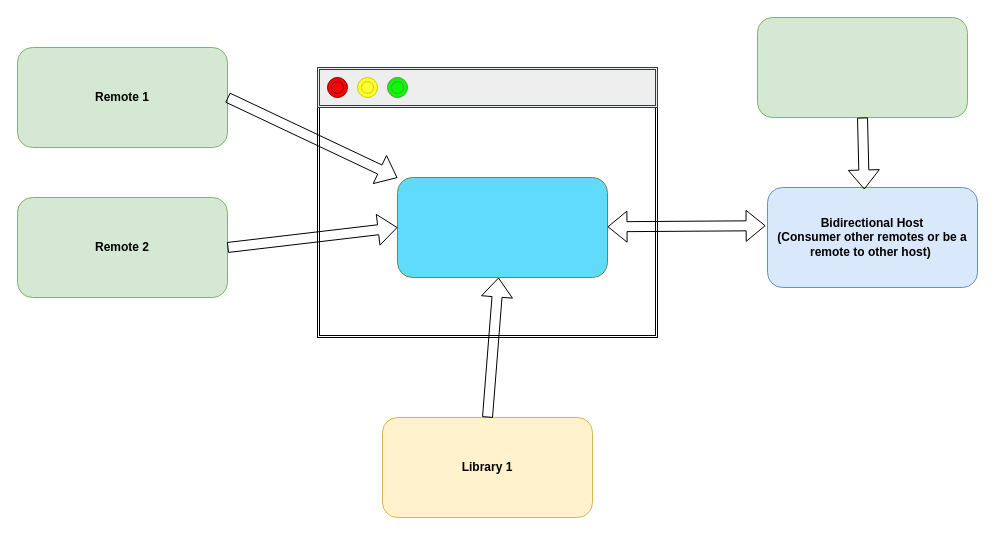
This 995x535 diagram has some shape labels left out. The box of each missing label's shape, as (x1, y1, x2, y2) in pixels:
Host: (396, 176, 608, 278)
Remote 3: (756, 16, 968, 118)
